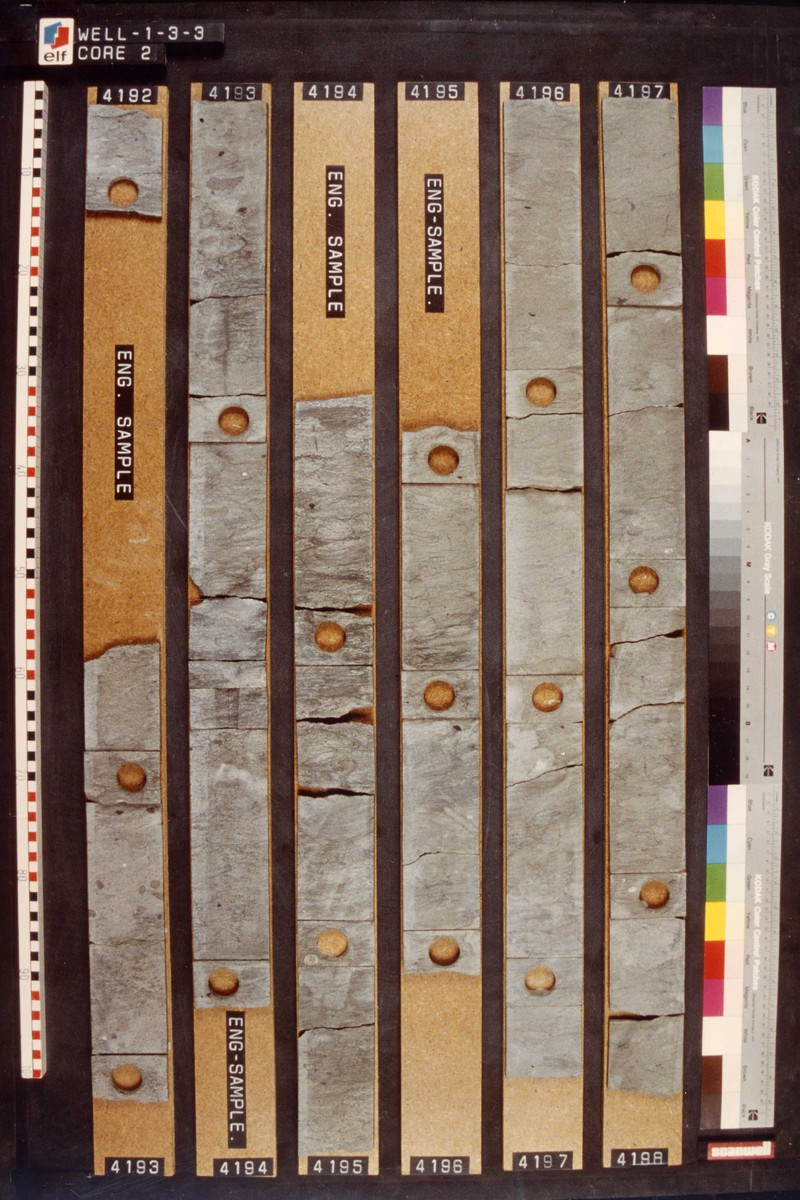core: (597, 94, 688, 1096), (500, 100, 587, 1082), (189, 100, 272, 1013), (293, 392, 377, 1156), (400, 424, 484, 980), (82, 641, 170, 1105), (86, 101, 163, 224)
